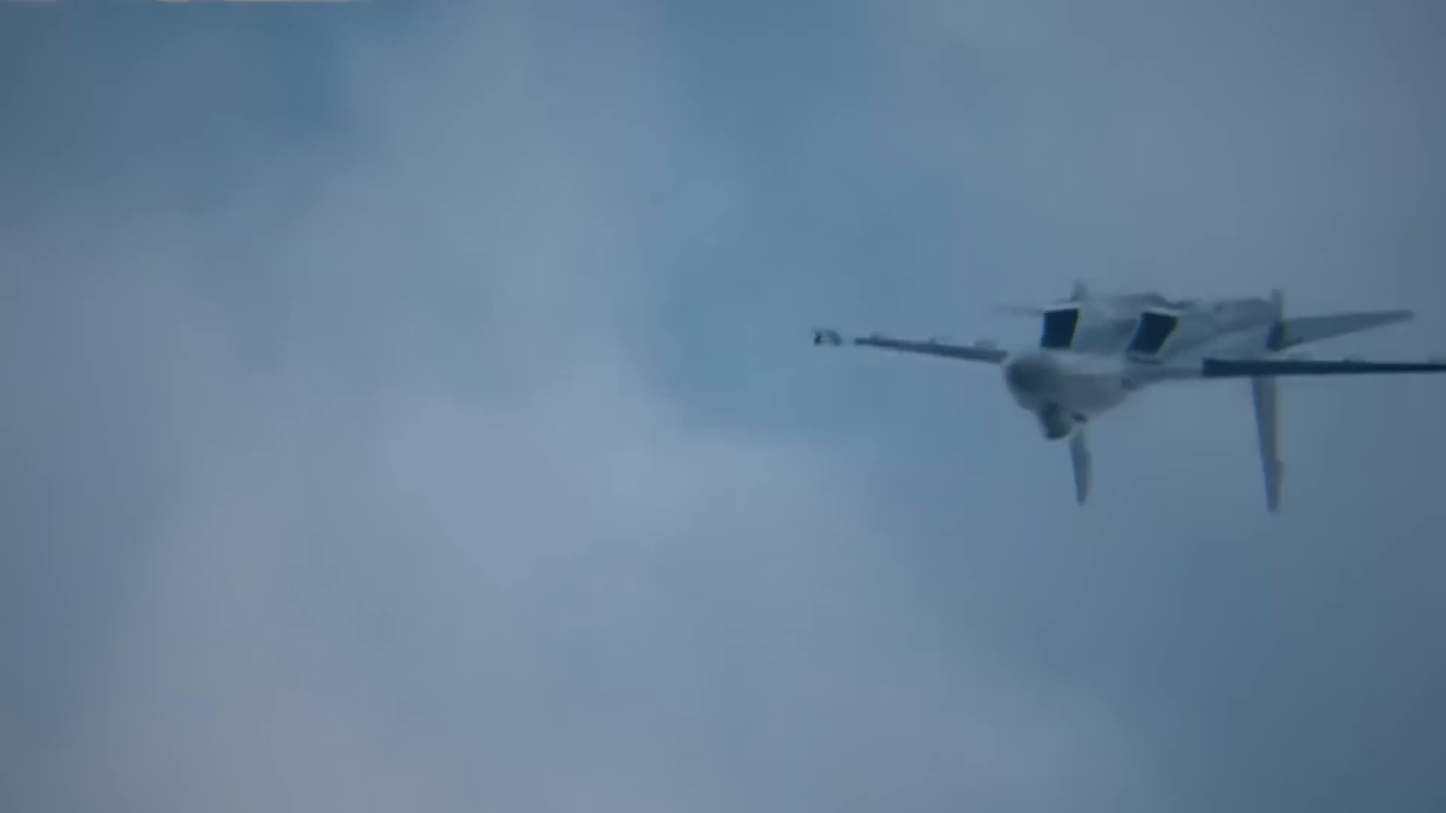Su35: (813, 274, 1441, 513)
